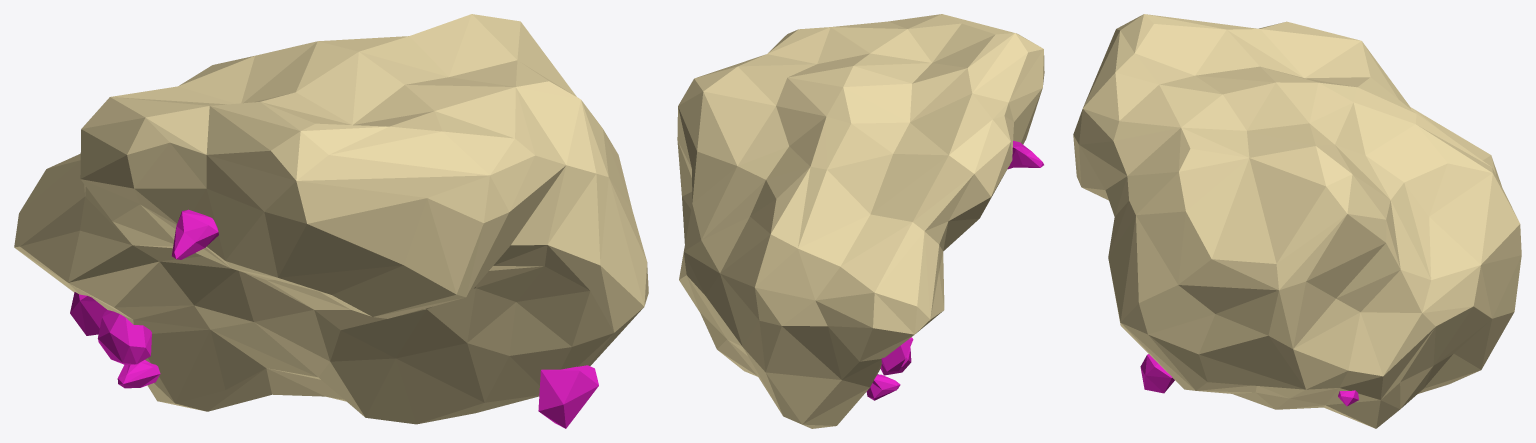
The model's file is CrystalOre (33).fbx.
3 renders of one model, left to right at view 1: azimuth 30°, elevation 25°; view 2: azimuth 150°, elevation 25°; view 3: azimuth 270°, elevation 25°, orthographic. The views are drawn at different scales.
Visible parts, largest first — view 1: Asteroid253; view 2: Asteroid253; view 3: Asteroid253.
Part boxes in pixels (x1,y1,x2,y2): Asteroid253: (14,14,648,428); Asteroid253: (677,14,1044,428); Asteroid253: (1073,14,1521,428).
Size of the model in its own units: 227 by 199 by 240.
